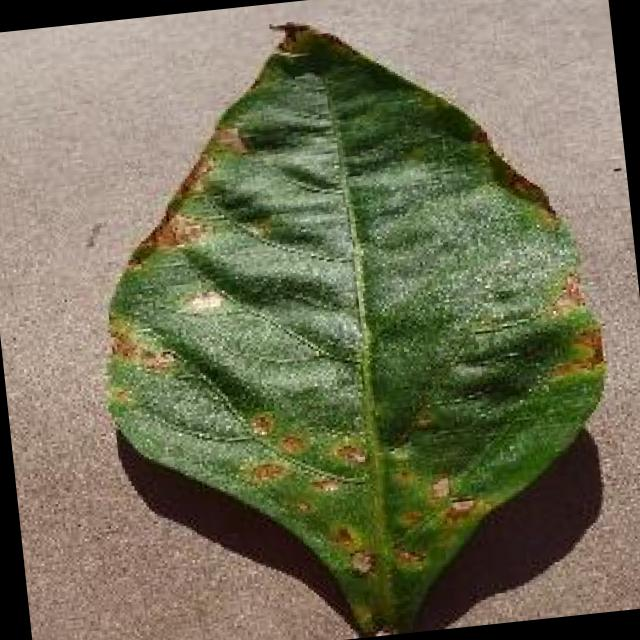Chilli_Bacterial_Spot: (64, 0, 634, 640), (231, 382, 492, 594), (263, 14, 317, 59), (178, 282, 229, 320), (325, 433, 371, 472), (244, 454, 289, 488), (386, 540, 429, 574), (440, 489, 480, 524), (342, 543, 378, 581), (274, 427, 312, 460), (303, 468, 343, 498), (244, 406, 277, 440), (422, 470, 454, 505), (324, 518, 356, 550)
